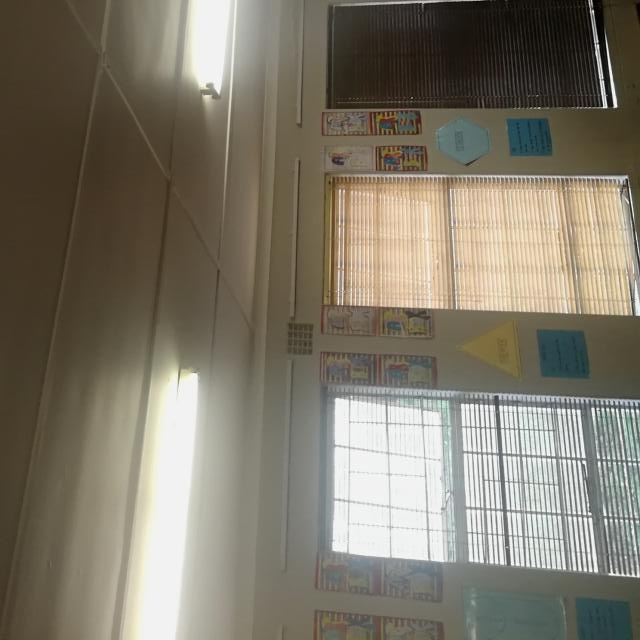fluorescent tube: (87, 359, 218, 640), (183, 0, 284, 110)
